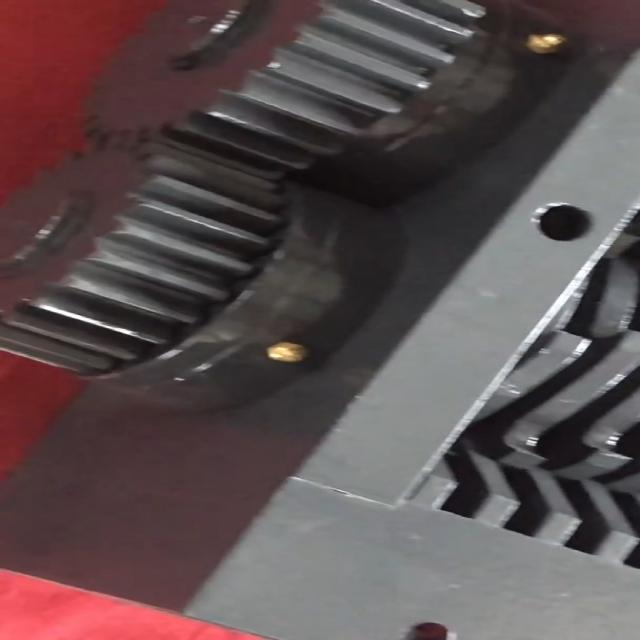Broyeur: (410, 176, 640, 640)
